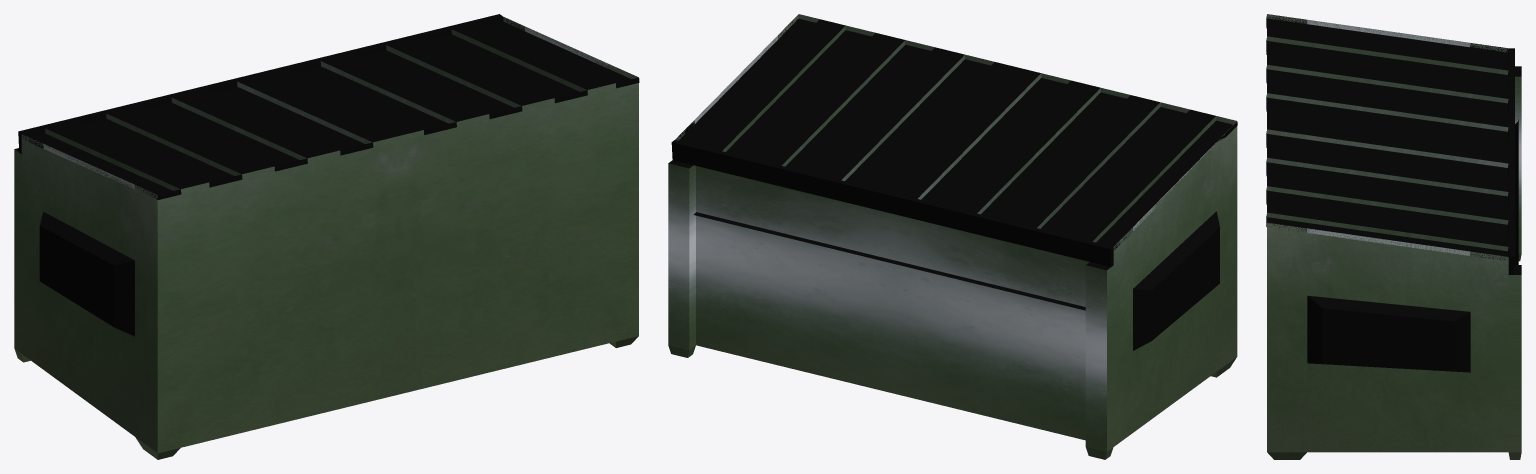
Rendered from Trashcontainersolo.fbx.
3 views of the same model, side by side, from view 1: azimuth 30°, elevation 25°; view 2: azimuth 150°, elevation 25°; view 3: azimuth 270°, elevation 25° (orthographic). The views are drawn at different scales.
Visible parts, largest first — view 1: Trashcontainersolo; view 2: Trashcontainersolo; view 3: Trashcontainersolo.
Boxes of the visible parts, bbox=[...] form: Trashcontainersolo: bbox=[14, 14, 639, 459]; Trashcontainersolo: bbox=[668, 14, 1237, 459]; Trashcontainersolo: bbox=[1266, 14, 1521, 459].
Bounding box in the file's own units: 343 × 174 × 169.
2 materials, 1 textured.
